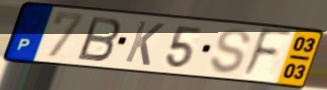5: (164, 25, 205, 69)
7: (46, 10, 88, 61)
B: (76, 15, 124, 63)
F: (238, 26, 295, 81)
K: (122, 19, 167, 68)
S: (207, 27, 253, 76)
